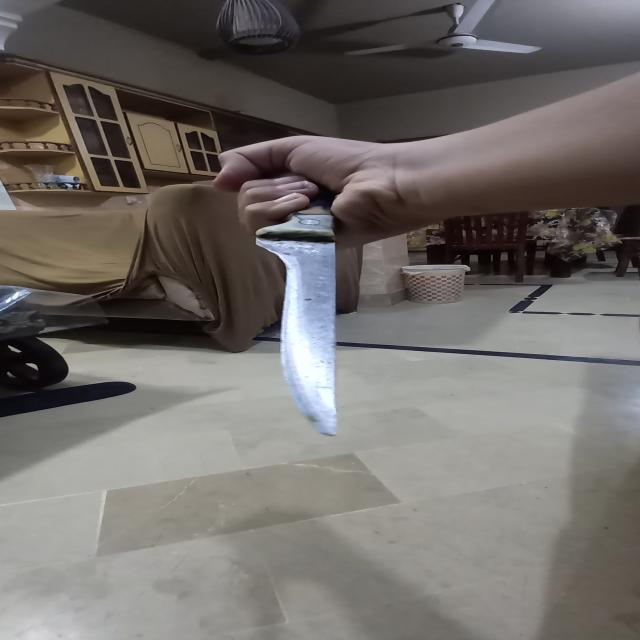Knife: (219, 140, 427, 445)
